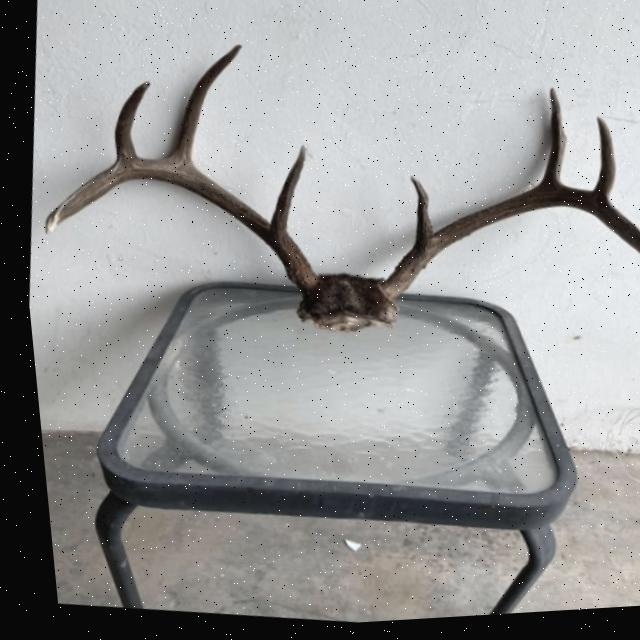L-F: (40, 159, 315, 304)
L-G1: (265, 148, 302, 235)
L-G2: (160, 46, 241, 170)
L-G3: (111, 83, 148, 164)
R-F: (372, 191, 640, 310)
R-G1: (406, 181, 428, 250)
R-G2: (532, 94, 564, 193)
R-G3: (587, 123, 611, 205)
